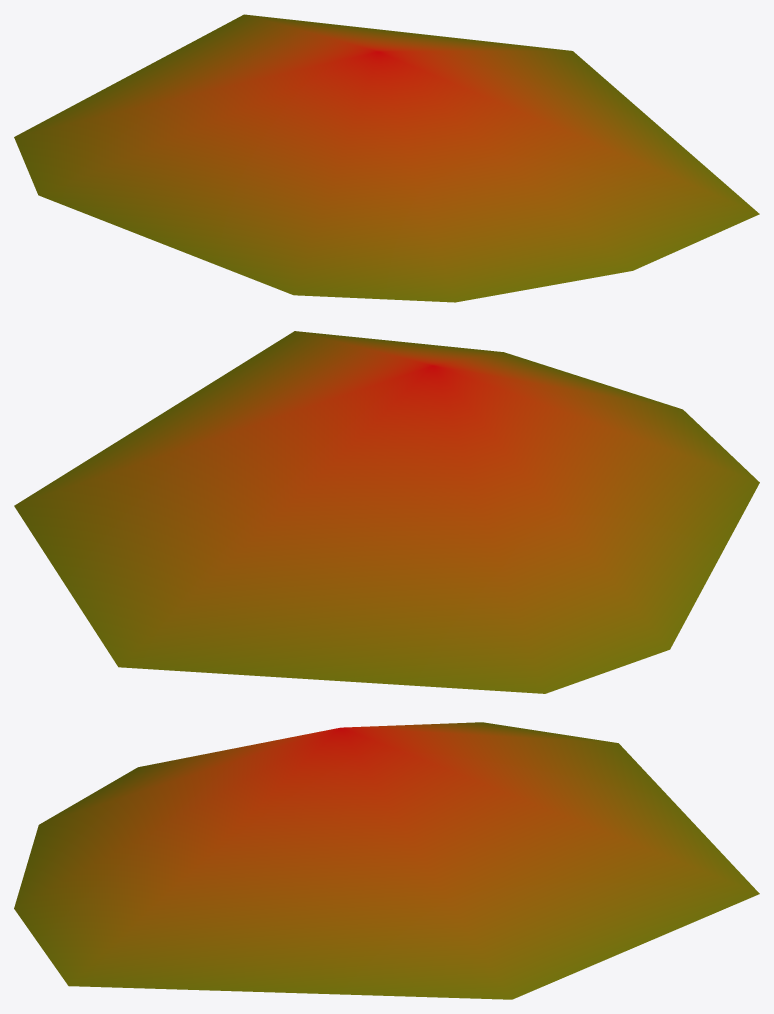
Rendered from Yellow Archangel_LOD4_Var9_wcwmcfvia.fbx.
3 views of the same model, one above another, from view 1: azimuth 30°, elevation 25°; view 2: azimuth 150°, elevation 25°; view 3: azimuth 270°, elevation 25° (orthographic). The views are drawn at different scales.
Visible parts, largest first — view 1: _te8y_Var9_LOD4; view 2: _te8y_Var9_LOD4; view 3: _te8y_Var9_LOD4.
Part boxes in pixels (bbox=[...]): _te8y_Var9_LOD4: bbox=[14, 14, 759, 302]; _te8y_Var9_LOD4: bbox=[14, 331, 759, 693]; _te8y_Var9_LOD4: bbox=[14, 722, 759, 999].
Size of the model in its own units: 10.57 by 2.34 by 12.01.
